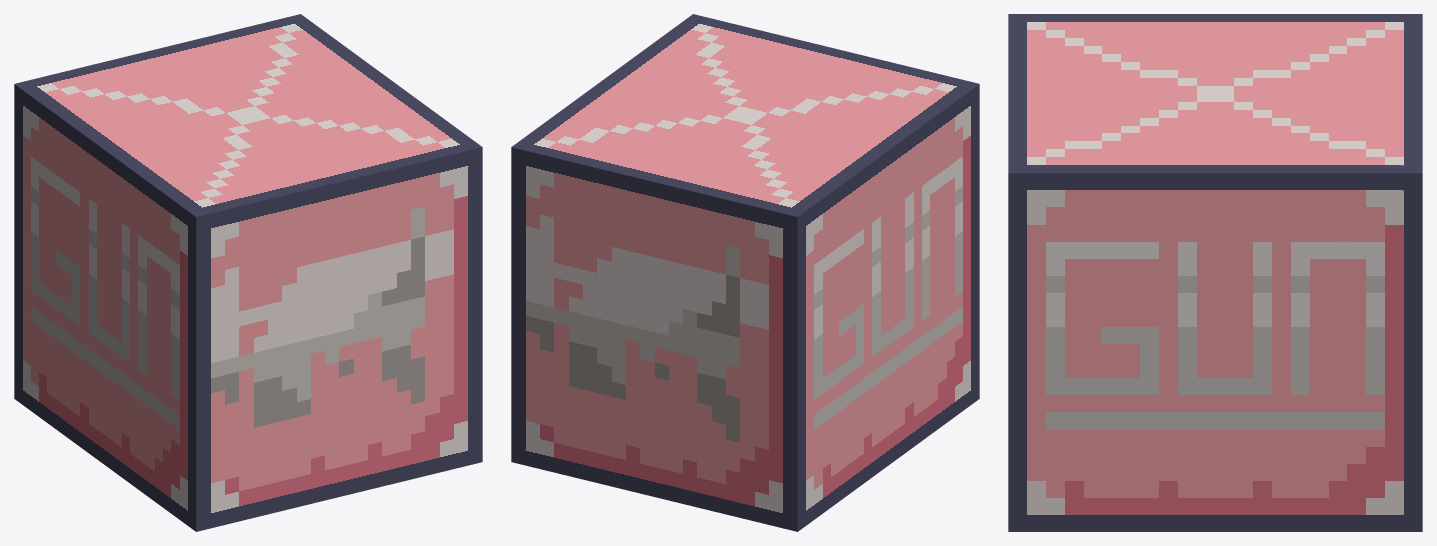
Rendered from WeaponUpgradeCrate.gltf.
The picture shows the model from 3 angles, left to right: view 1: azimuth 30°, elevation 25°; view 2: azimuth 150°, elevation 25°; view 3: azimuth 270°, elevation 25°; orthographic projection. The views are drawn at different scales.
Parts seen in each view (by area): view 1: cube; view 2: cube; view 3: cube.
Part boxes in pixels (x1=…): cube: x1=14, y1=14, x2=482, y2=531; cube: x1=511, y1=14, x2=979, y2=531; cube: x1=1008, y1=14, x2=1422, y2=531.
Bounding box in the file's own units: 1.25 × 1.31 × 1.38.
Materials: 1 (1 with a texture image).
